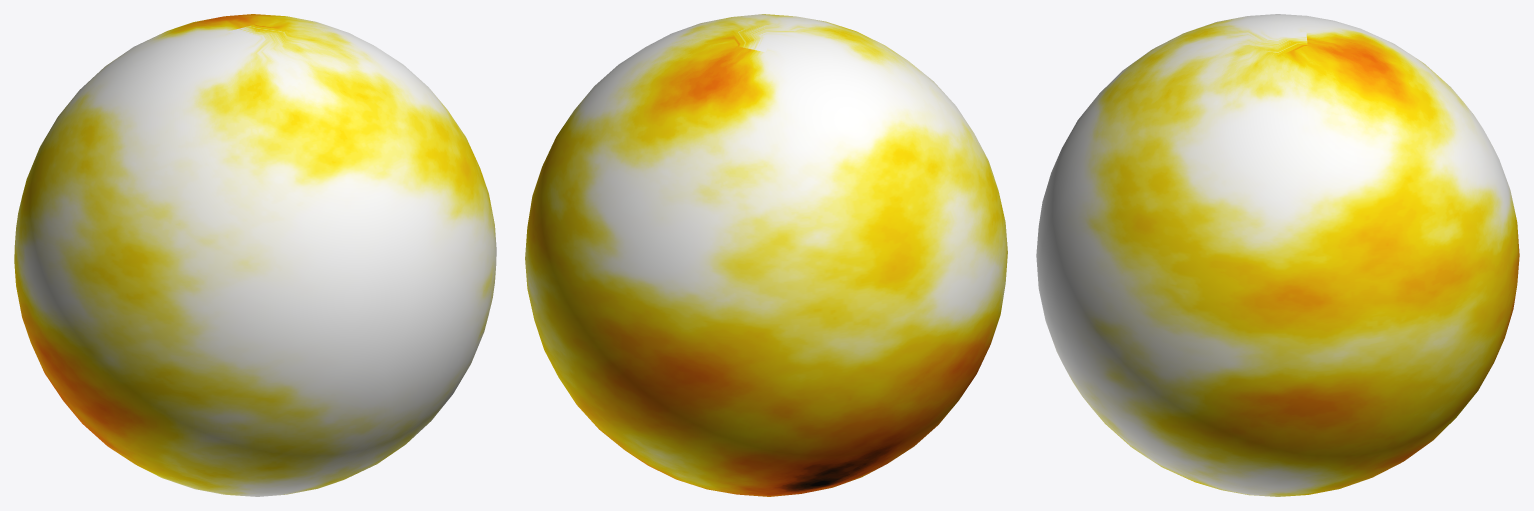
File: sun.fbx
The picture shows the model from 3 angles, left to right: view 1: azimuth 30°, elevation 25°; view 2: azimuth 150°, elevation 25°; view 3: azimuth 270°, elevation 25°; orthographic projection.
Parts seen in each view (by area): view 1: Planet; view 2: Planet; view 3: Planet.
Part boxes in pixels (x1,y1,x2,y2): Planet: (14, 14, 496, 496); Planet: (525, 14, 1007, 496); Planet: (1036, 14, 1519, 496).
Bounding box in the file's own units: 15253 × 15253 × 15253.
